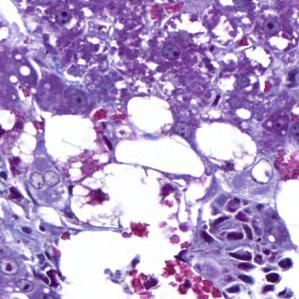ballooning: (69, 160, 186, 232), (193, 118, 261, 176)
